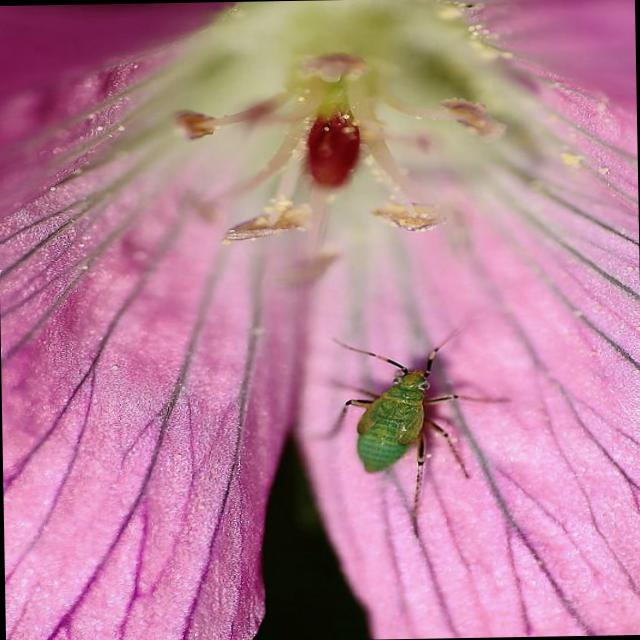Aphids: (291, 333, 508, 500)
